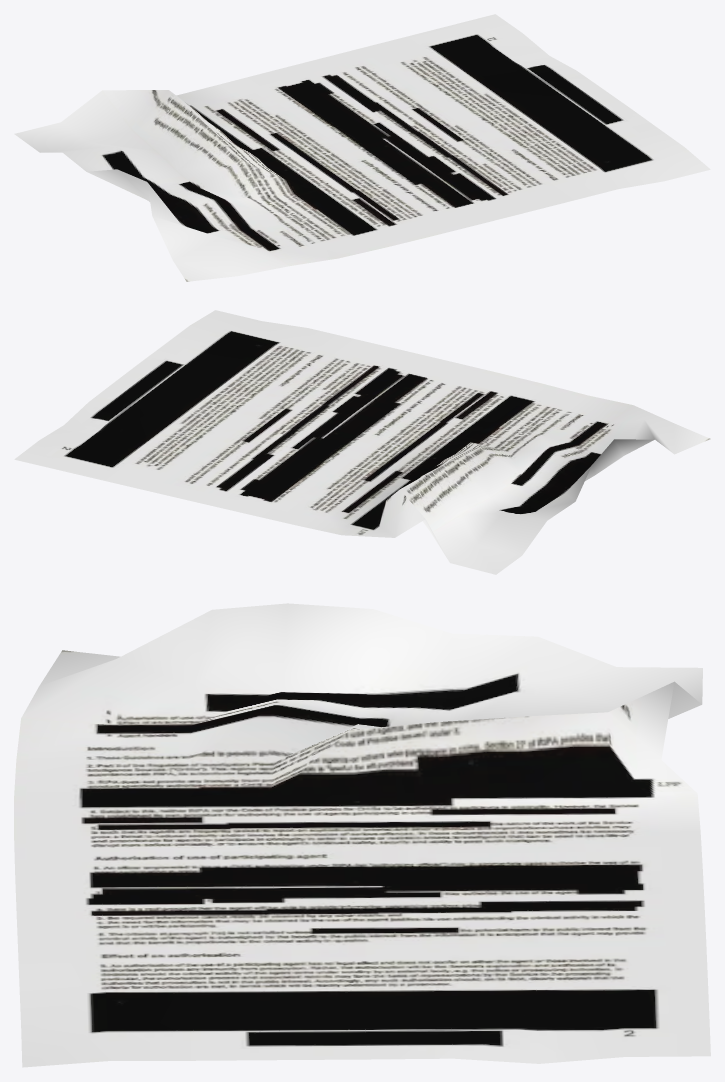
File: paper_debris_a.glb
3 renders of one model, top to bottom at view 1: azimuth 30°, elevation 25°; view 2: azimuth 150°, elevation 25°; view 3: azimuth 270°, elevation 25°, orthographic. The views are drawn at different scales.
Visible parts, largest first — view 1: defaultMaterial; view 2: defaultMaterial; view 3: defaultMaterial.
Part boxes in pixels (bbox=[...]): defaultMaterial: bbox=[14, 14, 710, 281]; defaultMaterial: bbox=[14, 310, 710, 574]; defaultMaterial: bbox=[14, 603, 710, 1067].
Bounding box in the file's own units: 0.2965 × 0.0257 × 0.2125.
1 material, 1 textured.
